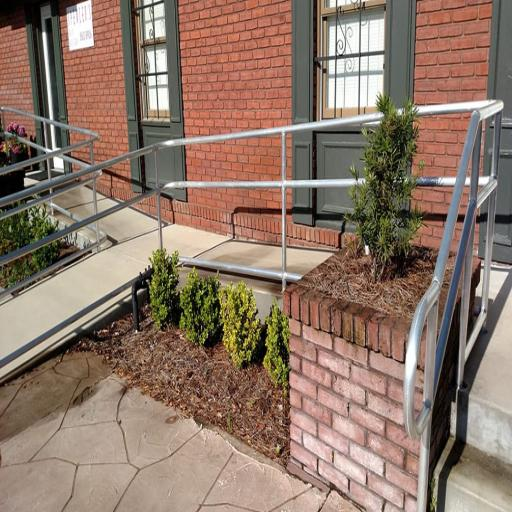ramp: (0, 247, 157, 382)
